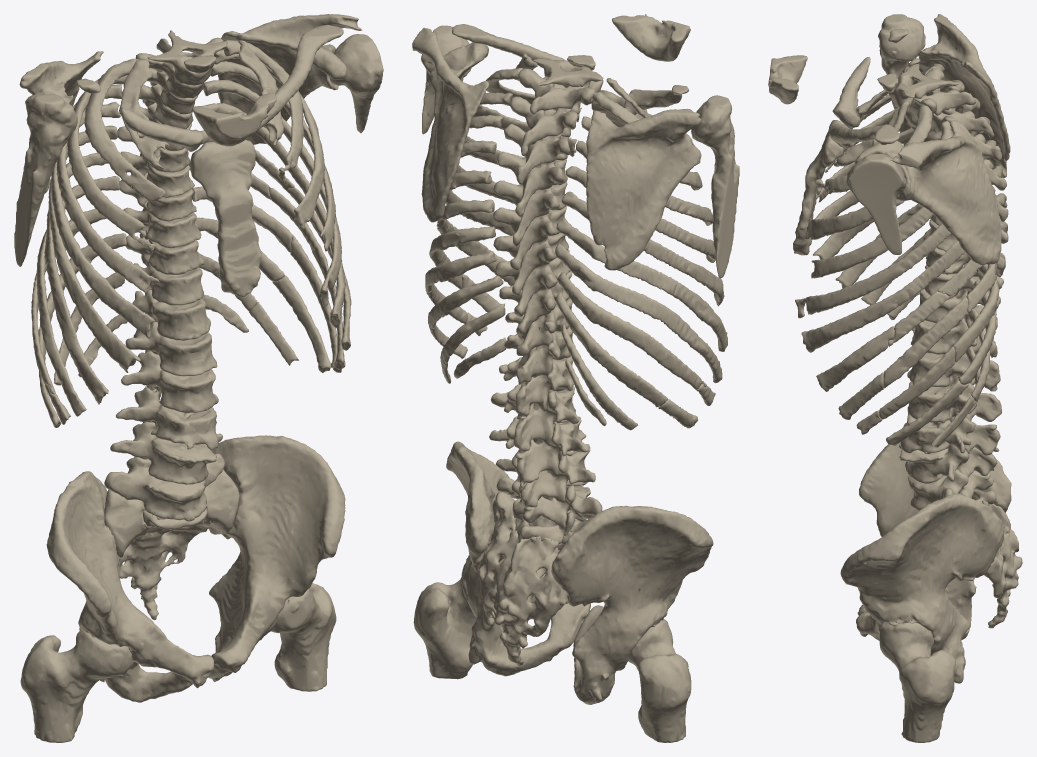
Rendered from tsd_s0327_older_adult_male.skeletal.LOD1.glb.
The picture shows the model from 3 angles, left to right: view 1: azimuth 30°, elevation 25°; view 2: azimuth 150°, elevation 25°; view 3: azimuth 270°, elevation 25°; orthographic projection. The views are drawn at different scales.
Parts seen in each view (by area): view 1: TSD_S0327.OLDER_ADULT.MALE.SKELETAL.HIP_BONE_OS_COXAE.L, TSD_S0327.OLDER_ADULT.MALE.SKELETAL.HIP_BONE_OS_COXAE.R, TSD_S0327.OLDER_ADULT.MALE.SKELETAL.FEMUR.R, TSD_S0327.OLDER_ADULT.MALE.SKELETAL.SACRUM, TSD_S0327.OLDER_ADULT.MALE.SKELETAL.STERNUM, TSD_S0327.OLDER_ADULT.MALE.SKELETAL.SCAPULA.L, TSD_S0327.OLDER_ADULT.MALE.SKELETAL.HUMERUS.R, TSD_S0327.OLDER_ADULT.MALE.SKELETAL.FEMUR.L, TSD_S0327.OLDER_ADULT.MALE.SKELETAL.VERTEBRA_L5, TSD_S0327.OLDER_ADULT.MALE.SKELETAL.VERTEBRA_L4, TSD_S0327.OLDER_ADULT.MALE.SKELETAL.VERTEBRA_L3, TSD_S0327.OLDER_ADULT.MALE.SKELETAL.RIB_5.R (+41 smaller); view 2: TSD_S0327.OLDER_ADULT.MALE.SKELETAL.HIP_BONE_OS_COXAE.R, TSD_S0327.OLDER_ADULT.MALE.SKELETAL.SCAPULA.R, TSD_S0327.OLDER_ADULT.MALE.SKELETAL.SACRUM, TSD_S0327.OLDER_ADULT.MALE.SKELETAL.HIP_BONE_OS_COXAE.L, TSD_S0327.OLDER_ADULT.MALE.SKELETAL.SCAPULA.L, TSD_S0327.OLDER_ADULT.MALE.SKELETAL.FEMUR.R, TSD_S0327.OLDER_ADULT.MALE.SKELETAL.FEMUR.L, TSD_S0327.OLDER_ADULT.MALE.SKELETAL.HUMERUS.R, TSD_S0327.OLDER_ADULT.MALE.SKELETAL.RIB_8.R, TSD_S0327.OLDER_ADULT.MALE.SKELETAL.VERTEBRA_L3, TSD_S0327.OLDER_ADULT.MALE.SKELETAL.RIB_7.R, TSD_S0327.OLDER_ADULT.MALE.SKELETAL.RIB_9.R (+39 smaller); view 3: TSD_S0327.OLDER_ADULT.MALE.SKELETAL.HIP_BONE_OS_COXAE.L, TSD_S0327.OLDER_ADULT.MALE.SKELETAL.SCAPULA.L, TSD_S0327.OLDER_ADULT.MALE.SKELETAL.FEMUR.L, TSD_S0327.OLDER_ADULT.MALE.SKELETAL.HIP_BONE_OS_COXAE.R, TSD_S0327.OLDER_ADULT.MALE.SKELETAL.SCAPULA.R, TSD_S0327.OLDER_ADULT.MALE.SKELETAL.HUMERUS.L, TSD_S0327.OLDER_ADULT.MALE.SKELETAL.RIB_9.L, TSD_S0327.OLDER_ADULT.MALE.SKELETAL.RIB_6.L, TSD_S0327.OLDER_ADULT.MALE.SKELETAL.RIB_5.L, TSD_S0327.OLDER_ADULT.MALE.SKELETAL.VERTEBRA_L3, TSD_S0327.OLDER_ADULT.MALE.SKELETAL.VERTEBRA_L4, TSD_S0327.OLDER_ADULT.MALE.SKELETAL.RIB_8.L (+30 smaller).
Boxes of the visible parts, x1,y1,x2,y2 form: TSD_S0327.OLDER_ADULT.MALE.SKELETAL.HIP_BONE_OS_COXAE.L: (207,435,345,681); TSD_S0327.OLDER_ADULT.MALE.SKELETAL.HIP_BONE_OS_COXAE.R: (46,471,214,702); TSD_S0327.OLDER_ADULT.MALE.SKELETAL.FEMUR.R: (20,630,133,742); TSD_S0327.OLDER_ADULT.MALE.SKELETAL.SACRUM: (104,469,239,620); TSD_S0327.OLDER_ADULT.MALE.SKELETAL.STERNUM: (190,139,261,296); TSD_S0327.OLDER_ADULT.MALE.SKELETAL.SCAPULA.L: (218,14,362,144); TSD_S0327.OLDER_ADULT.MALE.SKELETAL.HUMERUS.R: (14,94,77,266); TSD_S0327.OLDER_ADULT.MALE.SKELETAL.FEMUR.L: (271,583,336,691); TSD_S0327.OLDER_ADULT.MALE.SKELETAL.VERTEBRA_L5: (104,453,224,521); TSD_S0327.OLDER_ADULT.MALE.SKELETAL.VERTEBRA_L4: (110,422,222,484); TSD_S0327.OLDER_ADULT.MALE.SKELETAL.VERTEBRA_L3: (116,386,218,449); TSD_S0327.OLDER_ADULT.MALE.SKELETAL.RIB_5.R: (50,102,155,338); TSD_S0327.OLDER_ADULT.MALE.SKELETAL.HIP_BONE_OS_COXAE.R: (551,505,713,704); TSD_S0327.OLDER_ADULT.MALE.SKELETAL.SCAPULA.R: (586,109,701,270); TSD_S0327.OLDER_ADULT.MALE.SKELETAL.SACRUM: (478,491,592,665); TSD_S0327.OLDER_ADULT.MALE.SKELETAL.HIP_BONE_OS_COXAE.L: (446,441,590,676); TSD_S0327.OLDER_ADULT.MALE.SKELETAL.SCAPULA.L: (412,27,489,222); TSD_S0327.OLDER_ADULT.MALE.SKELETAL.FEMUR.R: (628,619,691,742); TSD_S0327.OLDER_ADULT.MALE.SKELETAL.FEMUR.L: (413,563,476,679); TSD_S0327.OLDER_ADULT.MALE.SKELETAL.HUMERUS.R: (691,95,739,278); TSD_S0327.OLDER_ADULT.MALE.SKELETAL.RIB_8.R: (555,243,722,383); TSD_S0327.OLDER_ADULT.MALE.SKELETAL.VERTEBRA_L3: (489,416,588,487); TSD_S0327.OLDER_ADULT.MALE.SKELETAL.RIB_7.R: (556,218,727,351); TSD_S0327.OLDER_ADULT.MALE.SKELETAL.RIB_9.R: (558,272,706,390); TSD_S0327.OLDER_ADULT.MALE.SKELETAL.HIP_BONE_OS_COXAE.L: (840,493,1004,683); TSD_S0327.OLDER_ADULT.MALE.SKELETAL.SCAPULA.L: (855,120,1001,265); TSD_S0327.OLDER_ADULT.MALE.SKELETAL.FEMUR.L: (879,622,955,742); TSD_S0327.OLDER_ADULT.MALE.SKELETAL.HIP_BONE_OS_COXAE.R: (857,442,1011,639); TSD_S0327.OLDER_ADULT.MALE.SKELETAL.SCAPULA.R: (918,14,1010,177); TSD_S0327.OLDER_ADULT.MALE.SKELETAL.HUMERUS.L: (846,153,905,254); TSD_S0327.OLDER_ADULT.MALE.SKELETAL.RIB_9.L: (856,264,999,434); TSD_S0327.OLDER_ADULT.MALE.SKELETAL.RIB_6.L: (801,240,965,352); TSD_S0327.OLDER_ADULT.MALE.SKELETAL.RIB_5.L: (795,223,950,318); TSD_S0327.OLDER_ADULT.MALE.SKELETAL.VERTEBRA_L3: (900,408,1000,455); TSD_S0327.OLDER_ADULT.MALE.SKELETAL.VERTEBRA_L4: (899,441,997,483); TSD_S0327.OLDER_ADULT.MALE.SKELETAL.RIB_8.L: (838,262,997,419).
Size of the model in its own units: 0.3355 by 0.6439 by 0.2465.
